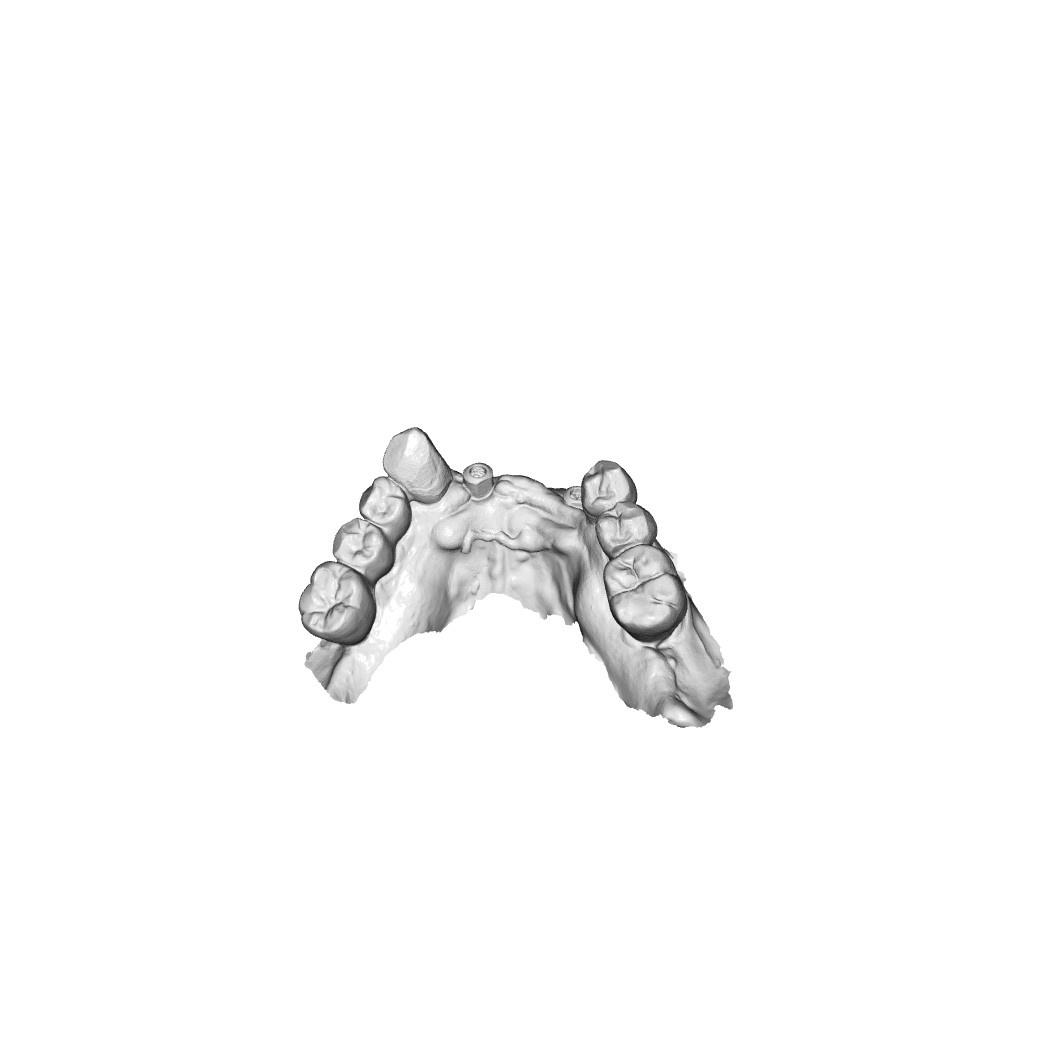canine: (378, 425, 444, 497)
implant: (462, 460, 494, 494), (563, 480, 589, 509)
molar: (607, 541, 687, 641), (297, 558, 377, 646)
premolar: (354, 476, 415, 538), (331, 516, 391, 578), (594, 502, 656, 557), (583, 455, 634, 514)
